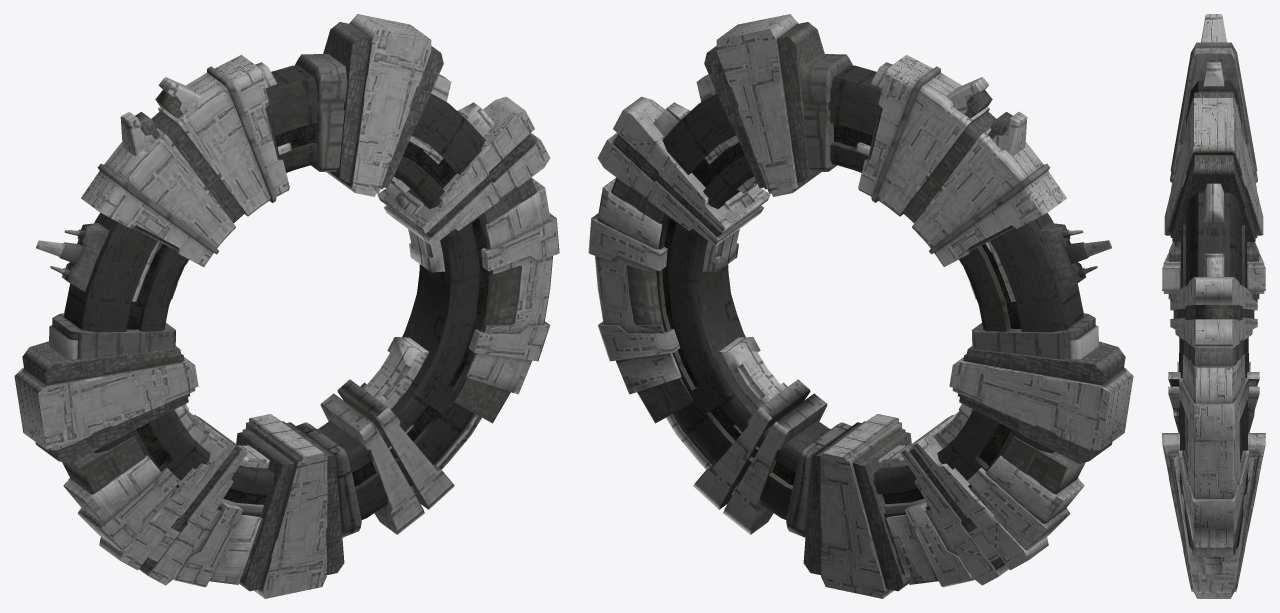
Rendered from space-bridge.glb.
3 views of the same model, side by side, from view 1: azimuth 30°, elevation 25°; view 2: azimuth 150°, elevation 25°; view 3: azimuth 270°, elevation 25° (orthographic). The views are drawn at different scales.
Visible parts, largest first — view 1: Minigame_SpaceBridge_M_SpaceBridge_MiniGame_0; view 2: Minigame_SpaceBridge_M_SpaceBridge_MiniGame_0; view 3: Minigame_SpaceBridge_M_SpaceBridge_MiniGame_0.
Boxes of the visible parts, left/top/right/bottom form: Minigame_SpaceBridge_M_SpaceBridge_MiniGame_0: left=14, top=14, right=559, bottom=598; Minigame_SpaceBridge_M_SpaceBridge_MiniGame_0: left=588, top=14, right=1133, bottom=598; Minigame_SpaceBridge_M_SpaceBridge_MiniGame_0: left=1162, top=14, right=1265, bottom=598.
Bounding box in the file's own units: 40 × 39.64 × 7.15.
1 material, 1 textured.
